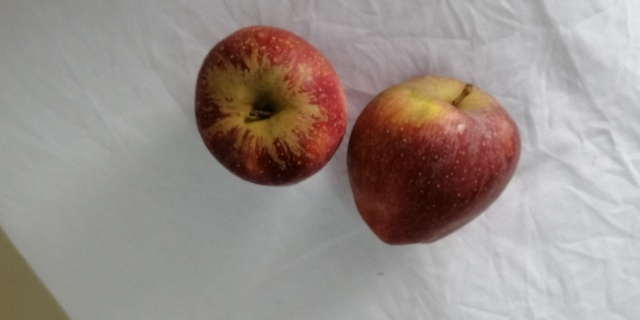apple_kashmir: (347, 73, 528, 247), (195, 27, 347, 187)
